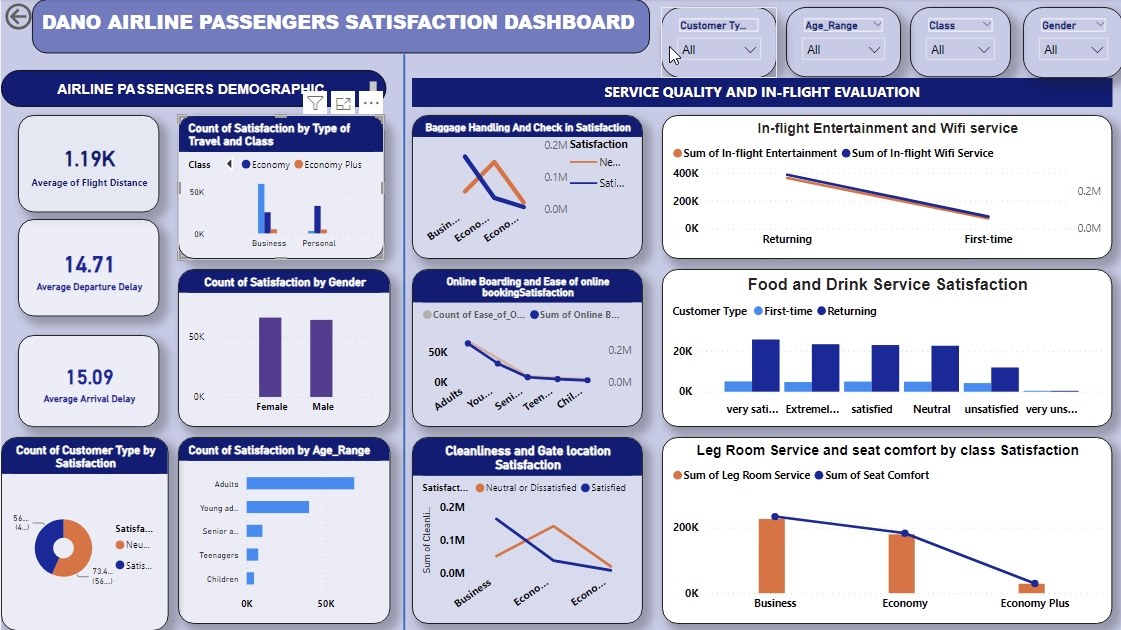

The page's visual inventory and layout, read from the dashboard file:
{"tool":"powerbi","page":{"name":"DASHBOARD","canvas":[1280,720],"ordinal":0},"visuals":[{"type":"columnChart","fields":{"Category":["Airline data - airline_passenger_satisfaction.Gender"],"Y":["CountNonNull(Airline data - airline_passenger_satisfaction.Satisfaction)"]},"box":[201.4,307.3,242.2,179.8],"z":0},{"type":"textbox","box":[0,80.3,438.6,42.1],"z":1000},{"type":"barChart","fields":{"Category":["Airline data - airline_passenger_satisfaction.Age_Range"],"Y":["CountNonNull(Airline data - airline_passenger_satisfaction.Satisfaction)"]},"box":[201.4,498.5,242.2,212.9],"z":2000},{"type":"donutChart","fields":{"Y":["CountNonNull(Airline data - airline_passenger_satisfaction.Customer Type)"],"Category":["Airline data - airline_passenger_satisfaction.Satisfaction"]},"box":[0,499,191.4,221],"z":3000},{"type":"clusteredColumnChart","fields":{"Category":["Airline data - airline_passenger_satisfaction.Type of Travel"],"Y":["CountNonNull(Airline data - airline_passenger_satisfaction.Satisfaction)"],"Series":["Airline data - airline_passenger_satisfaction.Class"]},"box":[201.4,132.6,234.6,164.5],"z":4000},{"type":"actionButton","box":[0,0,100,40],"z":5000},{"type":"slicer","fields":{"Values":["Airline data - airline_passenger_satisfaction.Customer Type"]},"box":[751.9,9.1,132.2,80.9],"z":6000},{"type":"slicer","fields":{"Values":["Airline data - airline_passenger_satisfaction.Age_Range"]},"box":[893.8,9.1,131.3,80.3],"z":7000},{"type":"slicer","fields":{"Values":["Airline data - airline_passenger_satisfaction.Class"]},"box":[1035.4,9.1,114.7,80.3],"z":8000},{"type":"card","fields":{"Values":["Avg(Airline data - airline_passenger_satisfaction.Flight Distance)"]},"box":[19.1,132.6,160.6,110.9],"z":9000},{"type":"card","fields":{"Values":["Airline data - airline_passenger_satisfaction.Average Departure Delay"]},"box":[19.1,251.2,160.6,110.9],"z":10000},{"type":"card","fields":{"Values":["Airline data - airline_passenger_satisfaction.Average Arrival Delay"]},"box":[19.1,382.5,160.6,104.5],"z":11000},{"type":"lineChart","title":"Baggage Handling And Check in Satisfaction","fields":{"Category":["Airline data - airline_passenger_satisfaction.Class"],"Series":["Airline data - airline_passenger_satisfaction.Satisfaction"],"Y2":["Sum(Airline data - airline_passenger_satisfaction.Check-in Service)"]},"box":[467.9,132.6,262.6,164.5],"z":12000},{"type":"lineChart","title":"Online Boarding and Ease of online bookingSatisfaction","fields":{"Category":["Airline data - airline_passenger_satisfaction.Age_Range"],"Y":["CountNonNull(Airline data - airline_passenger_satisfaction.Ease_of_Online_Booking)"],"Y2":["Sum(Airline data - airline_passenger_satisfaction.Online Boarding)"]},"box":[467.9,307.3,262.6,179.8],"z":13000},{"type":"lineChart","title":"Cleanliness and Gate location Satisfaction","fields":{"Category":["Airline data - airline_passenger_satisfaction.Class"],"Series":["Airline data - airline_passenger_satisfaction.Satisfaction"],"Y":["Sum(Airline data - airline_passenger_satisfaction.Cleanliness)"]},"box":[467.9,498.5,262.6,212.9],"z":14000},{"type":"lineChart","title":"In-flight Entertainment and Wifi service","fields":{"Category":["Airline data - airline_passenger_satisfaction.Customer Type"],"Y":["Sum(Airline data - airline_passenger_satisfaction.In-flight Entertainment)"],"Y2":["Sum(Airline data - airline_passenger_satisfaction.In-flight Wifi Service)"]},"box":[753.5,132.6,512.5,164.5],"z":15000},{"type":"clusteredColumnChart","title":"Food and Drink Service Satisfaction","fields":{"Category":["Airline data - airline_passenger_satisfaction.Food_and_Drink"],"Y":["CountNonNull(Airline data - airline_passenger_satisfaction.Food_and_Drink)"],"Series":["Airline data - airline_passenger_satisfaction.Customer Type"]},"box":[753.5,307.3,512.5,179.8],"z":16000},{"type":"lineStackedColumnComboChart","title":"Leg Room Service and seat comfort by class Satisfaction","fields":{"Category":["Airline data - airline_passenger_satisfaction.Class"],"Y":["Sum(Airline data - airline_passenger_satisfaction.Leg Room Service)"],"Y2":["Sum(Airline data - airline_passenger_satisfaction.Seat Comfort)"]},"box":[753.5,498.5,512.5,212.9],"z":17000},{"type":"textbox","box":[467.9,90.5,798.1,33.1],"z":18000},{"type":"textbox","box":[35.7,0,703.7,62.5],"z":19000},{"type":"shape","box":[451.3,62.5,16.6,657.8],"z":20000},{"type":"slicer","fields":{"Values":["Airline data - airline_passenger_satisfaction.Gender"]},"box":[1164.3,9.1,115.1,80.9],"z":21000}]}

Visuals, with their boxes in screenshot pixels (x1, y1, x2, y2), scaled from the page's 1280x720 canvas onto the 1121x630 screenshot:
columnChart - Airline data - airline_passenger_satisfaction.Gender x CountNonNull(Airline data - airline_passenger_satisfaction.Satisfaction): (x1=176, y1=269, x2=388, y2=426)
textbox: (x1=0, y1=70, x2=384, y2=107)
barChart - Airline data - airline_passenger_satisfaction.Age_Range x CountNonNull(Airline data - airline_passenger_satisfaction.Satisfaction): (x1=176, y1=436, x2=388, y2=622)
donutChart - CountNonNull(Airline data - airline_passenger_satisfaction.Customer Type) x Airline data - airline_passenger_satisfaction.Satisfaction: (x1=0, y1=437, x2=168, y2=629)
clusteredColumnChart - Airline data - airline_passenger_satisfaction.Type of Travel x CountNonNull(Airline data - airline_passenger_satisfaction.Satisfaction): (x1=176, y1=116, x2=382, y2=260)
actionButton: (x1=0, y1=0, x2=88, y2=35)
slicer - Airline data - airline_passenger_satisfaction.Customer Type: (x1=658, y1=8, x2=774, y2=79)
slicer - Airline data - airline_passenger_satisfaction.Age_Range: (x1=783, y1=8, x2=898, y2=78)
slicer - Airline data - airline_passenger_satisfaction.Class: (x1=907, y1=8, x2=1007, y2=78)
card - Avg(Airline data - airline_passenger_satisfaction.Flight Distance): (x1=17, y1=116, x2=157, y2=213)
card - Airline data - airline_passenger_satisfaction.Average Departure Delay: (x1=17, y1=220, x2=157, y2=317)
card - Airline data - airline_passenger_satisfaction.Average Arrival Delay: (x1=17, y1=335, x2=157, y2=426)
"Baggage Handling And Check in Satisfaction" lineChart: (x1=410, y1=116, x2=640, y2=260)
"Online Boarding and Ease of online bookingSatisfaction" lineChart: (x1=410, y1=269, x2=640, y2=426)
"Cleanliness and Gate location Satisfaction" lineChart: (x1=410, y1=436, x2=640, y2=622)
"In-flight Entertainment and Wifi service" lineChart: (x1=660, y1=116, x2=1109, y2=260)
"Food and Drink Service Satisfaction" clusteredColumnChart: (x1=660, y1=269, x2=1109, y2=426)
"Leg Room Service and seat comfort by class Satisfaction" lineStackedColumnComboChart: (x1=660, y1=436, x2=1109, y2=622)
textbox: (x1=410, y1=79, x2=1109, y2=108)
textbox: (x1=31, y1=0, x2=648, y2=55)
shape: (x1=395, y1=55, x2=410, y2=629)
slicer - Airline data - airline_passenger_satisfaction.Gender: (x1=1020, y1=8, x2=1120, y2=79)
